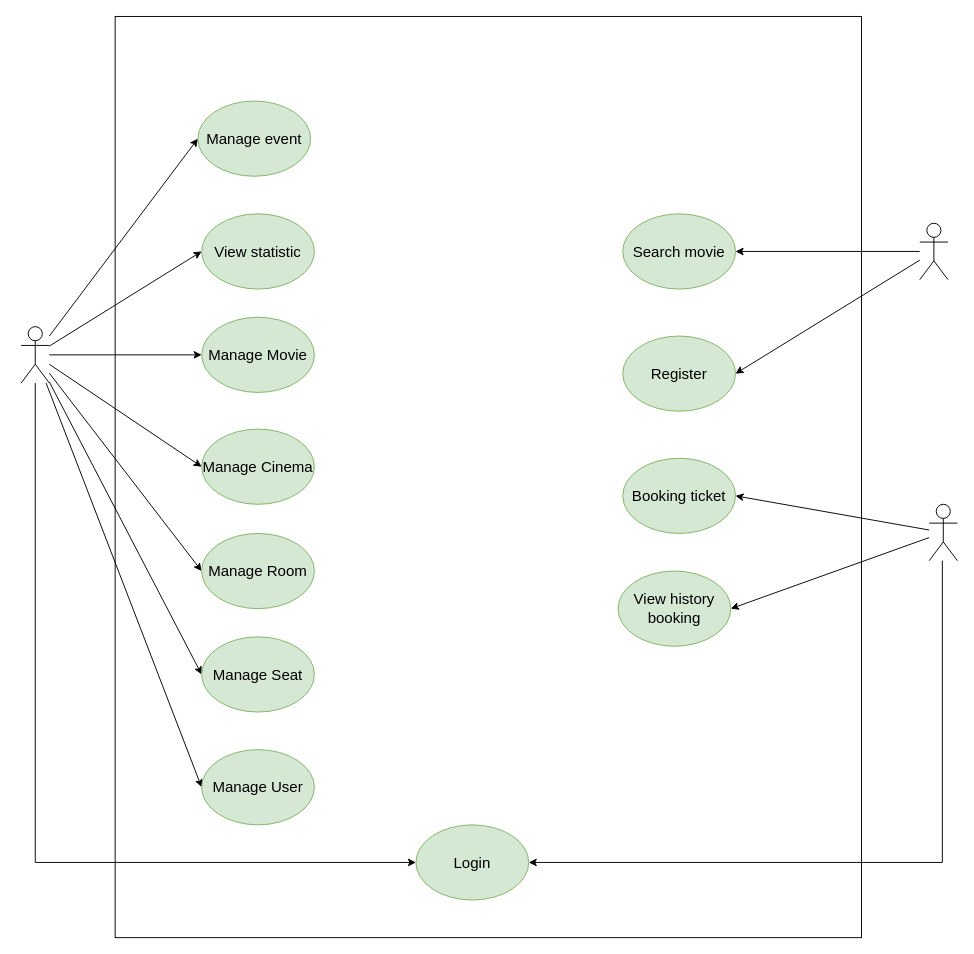
The diagram is 974 pixels wide and 954 high, and some of its shapes have lost their labels. Each missing label, with the box of its shape:
Admin: (20, 326, 49, 383)
Guest: (919, 222, 948, 280)
User: (928, 503, 957, 561)
